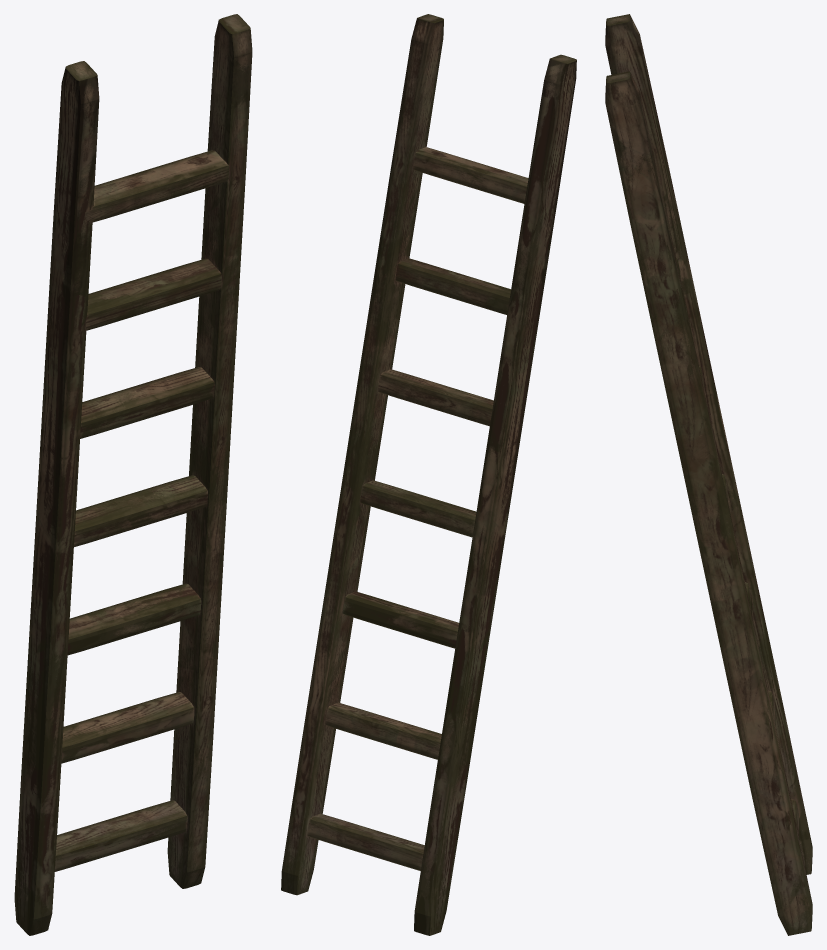
Rendered from Ladder.fbx.
3 renders of one model, left to right at view 1: azimuth 30°, elevation 25°; view 2: azimuth 150°, elevation 25°; view 3: azimuth 270°, elevation 25°, orthographic. The views are drawn at different scales.
Visible parts, largest first — view 1: Ladder; view 2: Ladder; view 3: Ladder.
Boxes of the visible parts, <box> form: Ladder: <box>14,14,252,935</box>; Ladder: <box>281,14,576,935</box>; Ladder: <box>605,14,812,935</box>.
Bounding box in the file's own units: 56.4 × 227 × 50.68.
